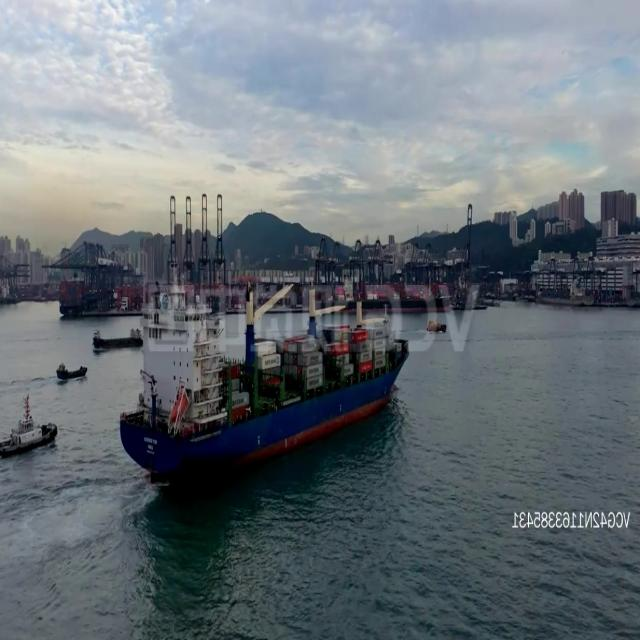cargoship: (118, 264, 403, 486)
fishing boat: (0, 397, 57, 462), (91, 318, 143, 355), (56, 355, 88, 385), (425, 316, 448, 336)
